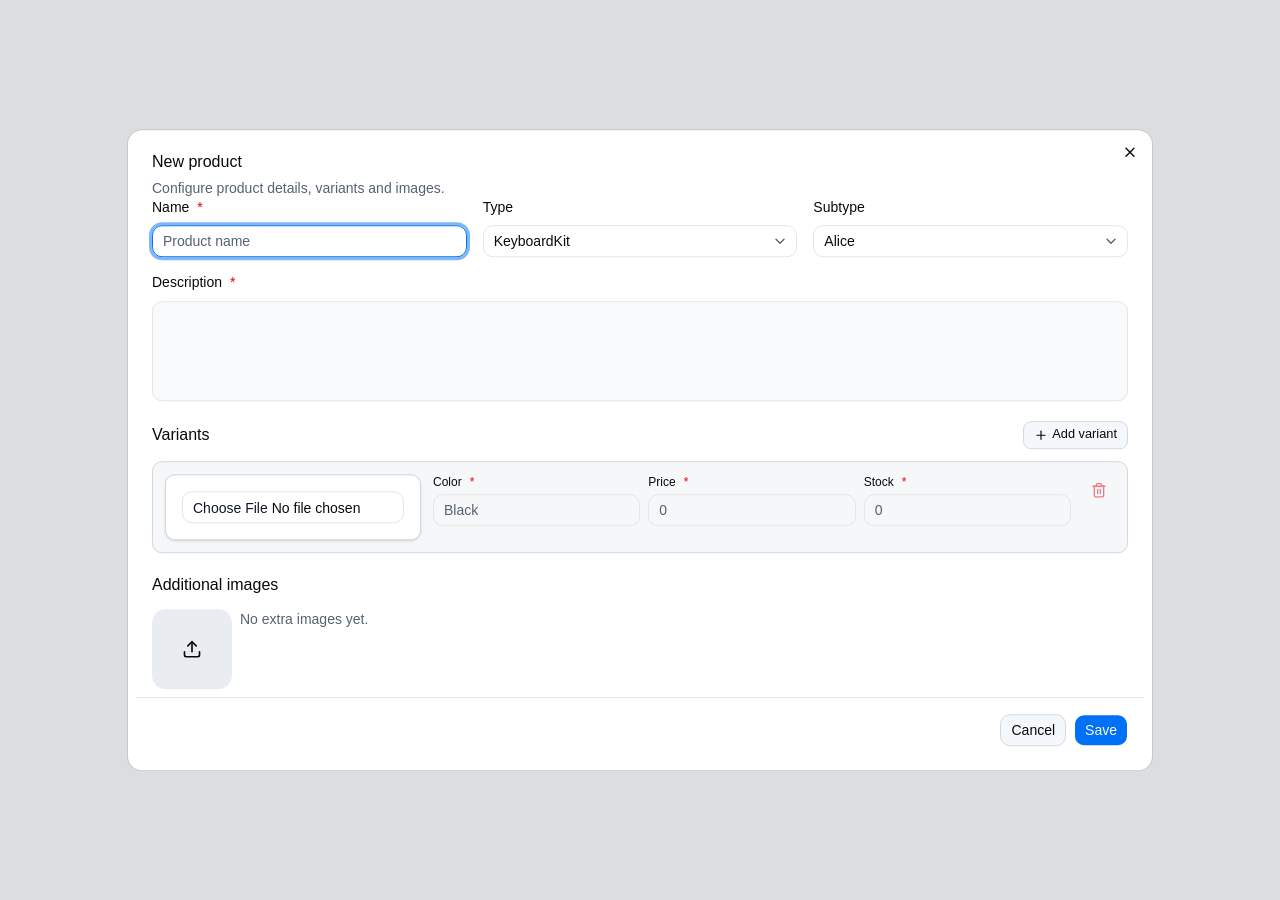
ProductFormDialog › adds variants and prevents removing the last remaining variant
The width and height of the screenshot is (1280, 900).
expect the button without text in the row of "Stock" is disabled: met, box [1083,474,1115,506]
Step 1. Click the button "Add variant" → (1076, 435), box [1023,421,1128,449]
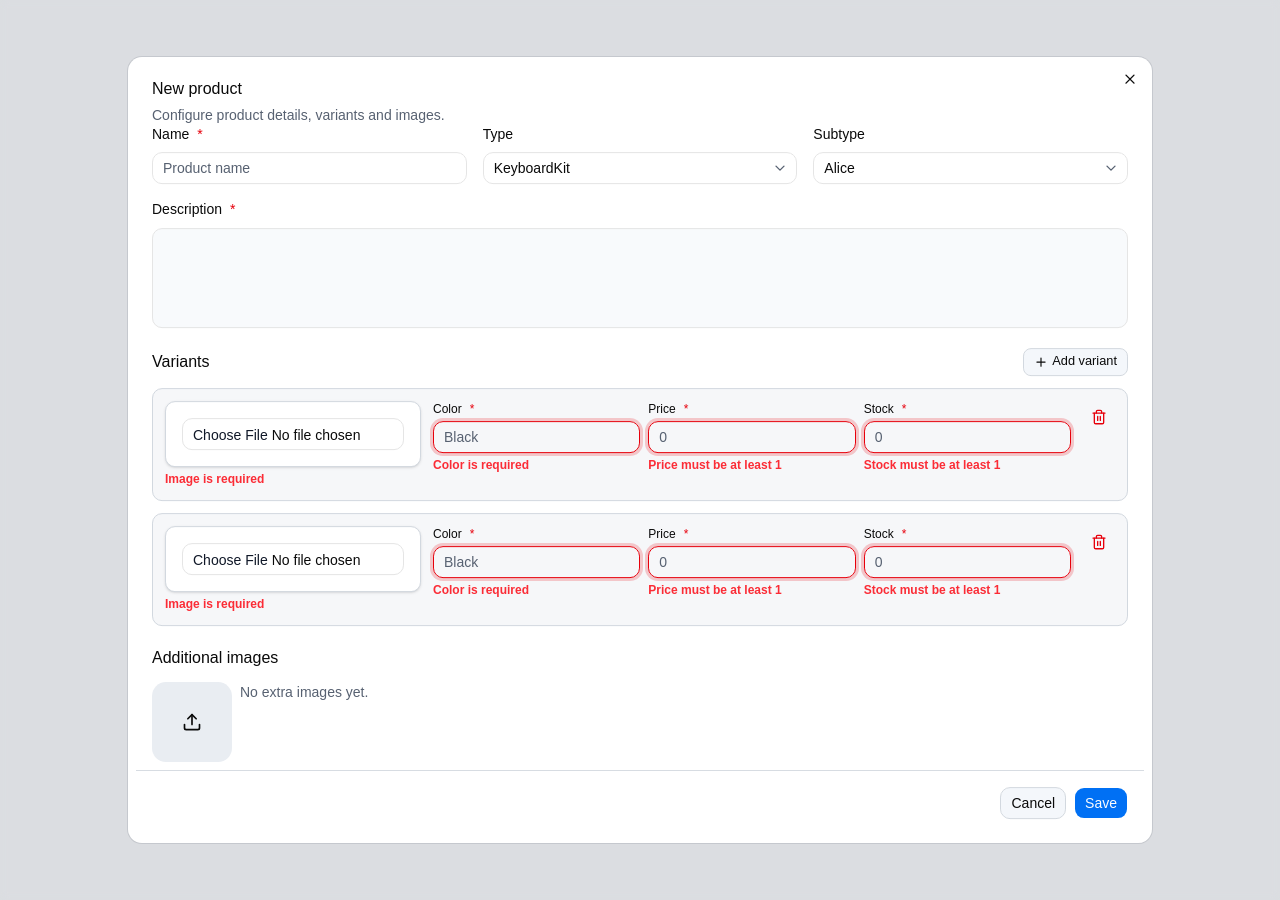
expect the number of fields with placeholder "Black" is 2: met, box [433,421,640,453]; [433,546,640,578]
Step 2. Click the 4th button → (1099, 542), box [1083,526,1115,558]
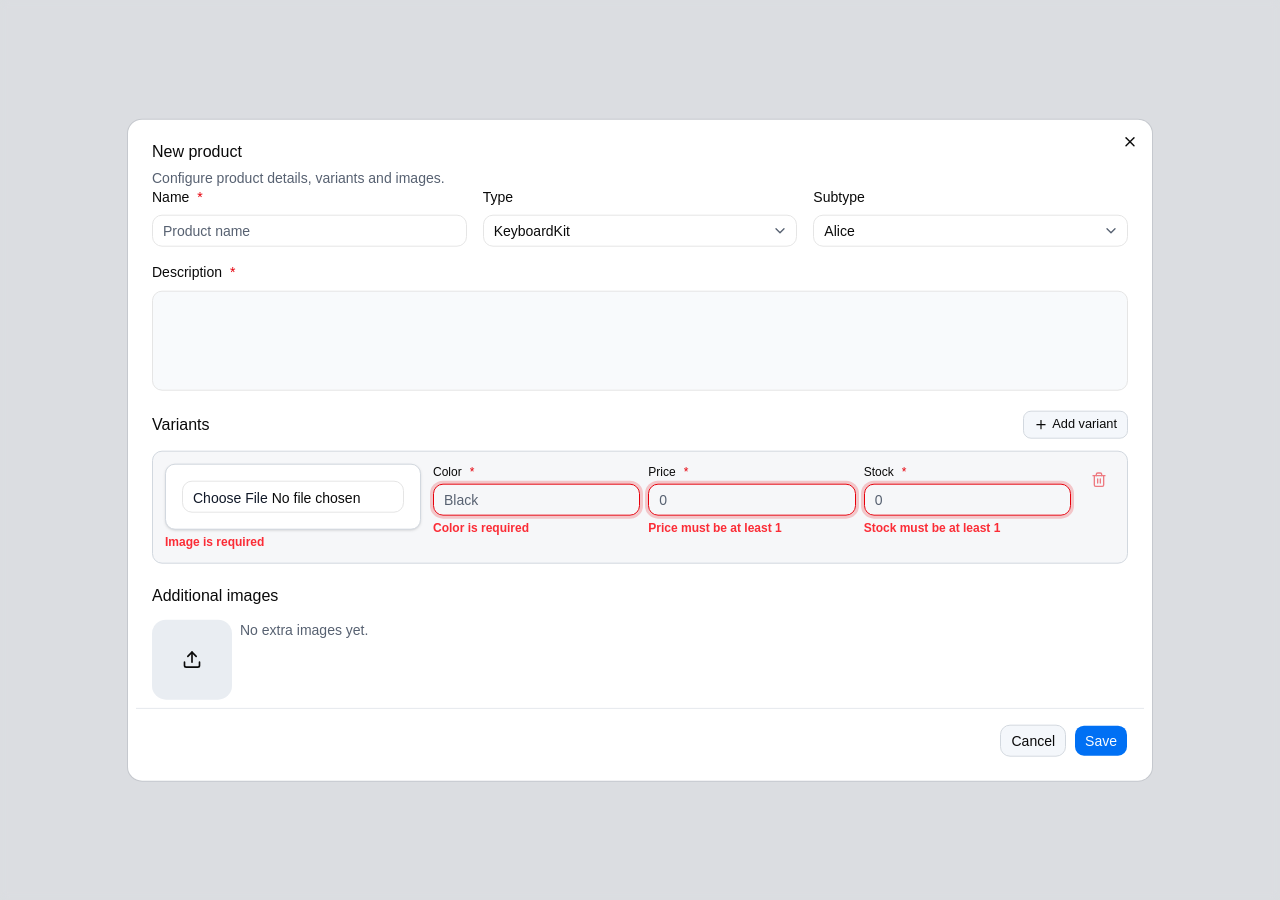
expect the number of fields with placeholder "Black" is 1: met, box [433,483,640,515]
expect the button without text below "Subtype" is disabled: met, box [1083,463,1115,495]
